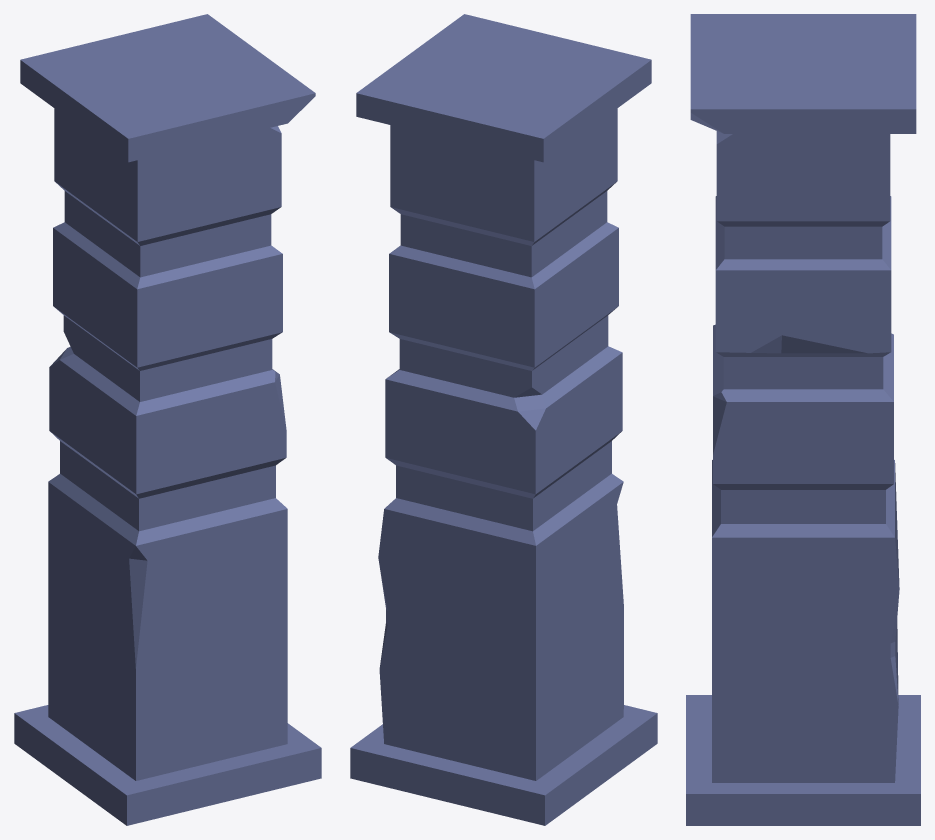
File: column_2_2.fbx
3 renders of one model, left to right at view 1: azimuth 30°, elevation 25°; view 2: azimuth 150°, elevation 25°; view 3: azimuth 270°, elevation 25°, orthographic. The views are drawn at different scales.
Parts seen in each view (by area): view 1: column_2_2; view 2: column_2_2; view 3: column_2_2.
Part boxes in pixels (bbox=[...]): column_2_2: bbox=[14, 14, 321, 825]; column_2_2: bbox=[350, 14, 657, 825]; column_2_2: bbox=[686, 14, 920, 825].
Size of the model in its own units: 2.6 by 8.73 by 2.6.
